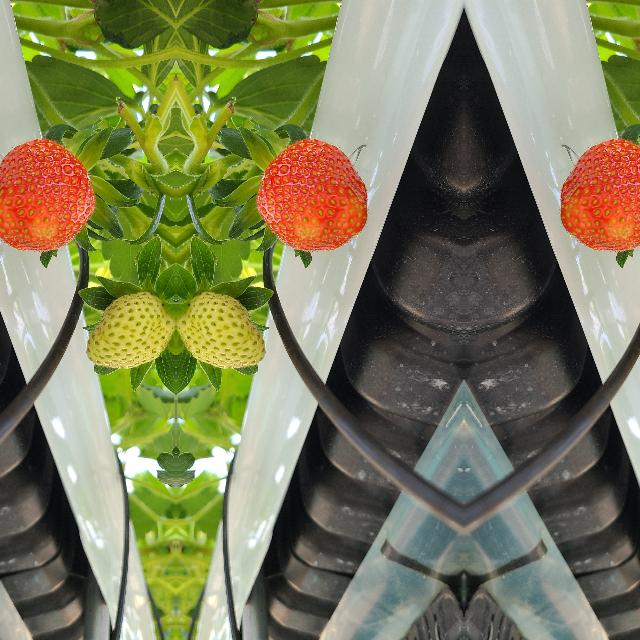Health_100: (253, 136, 369, 252), (0, 135, 97, 252), (557, 135, 640, 252)
Health_25: (178, 283, 266, 379), (84, 283, 172, 379)
